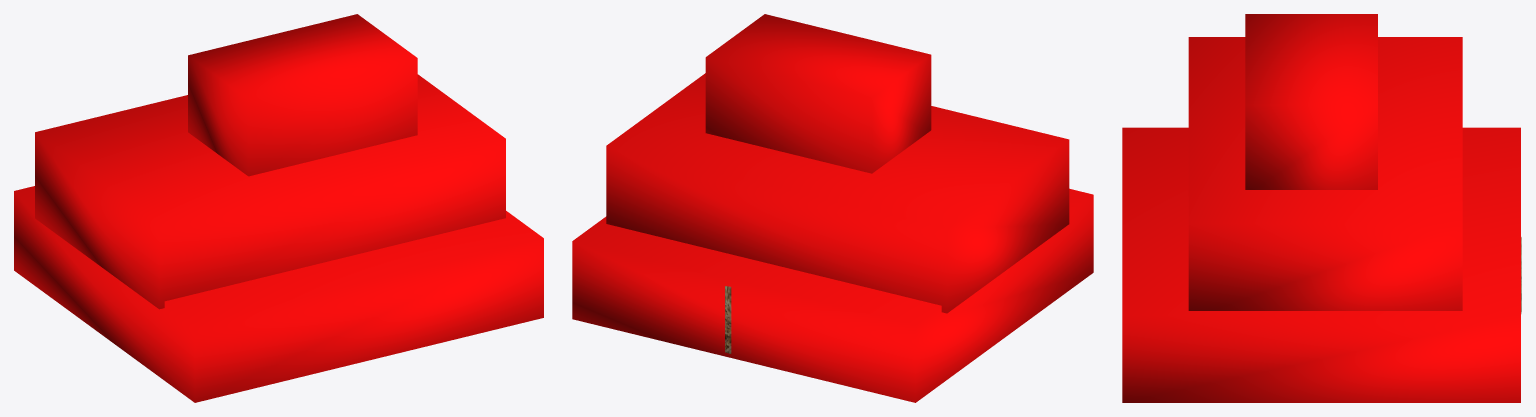
The model's file is strohballen_04.fbx.
3 renders of one model, left to right at view 1: azimuth 30°, elevation 25°; view 2: azimuth 150°, elevation 25°; view 3: azimuth 270°, elevation 25°, orthographic. The views are drawn at different scales.
Visible parts, largest first — view 1: colmesh; view 2: colmesh, strohballen_04; view 3: colmesh.
Boxes of the visible parts, bbox=[...] form: colmesh: bbox=[14, 14, 543, 402]; colmesh: bbox=[572, 14, 1093, 402]; strohballen_04: bbox=[725, 286, 731, 353]; colmesh: bbox=[1122, 14, 1520, 402].
Size of the model in its own units: 228 by 145 by 202.
